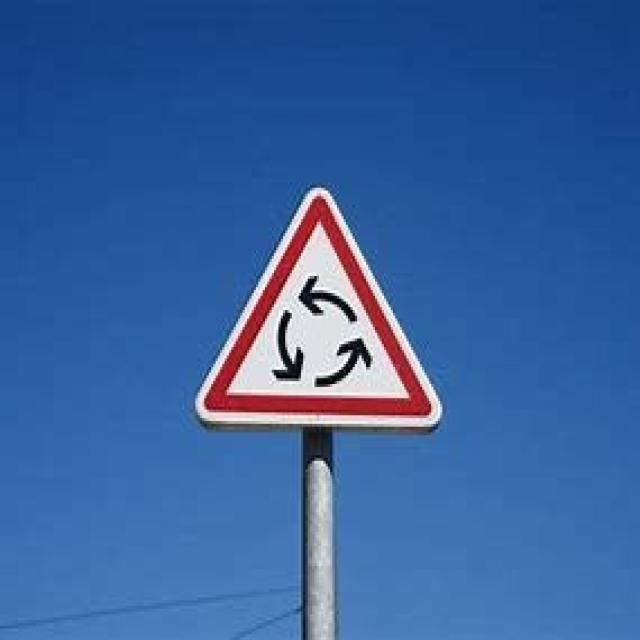roundabout: (190, 183, 447, 438)
